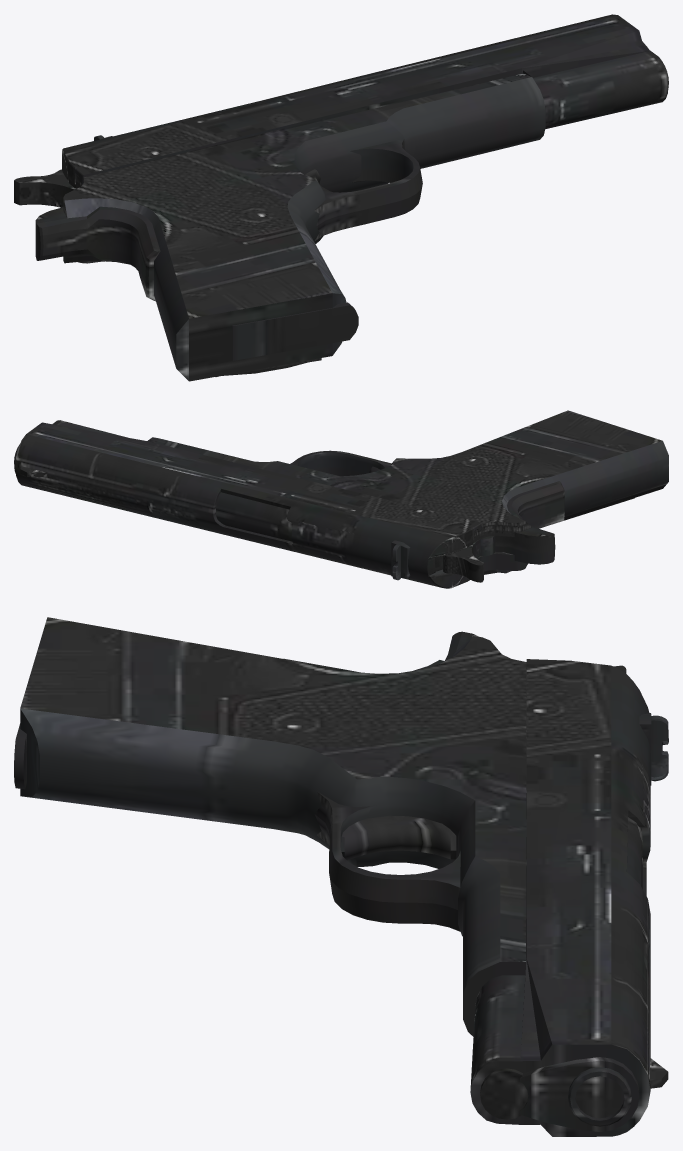
Rendered from t5_weapon_1911_rh_viewmodel.glb.
3 views of the same model, one above another, from view 1: azimuth 30°, elevation 25°; view 2: azimuth 150°, elevation 25°; view 3: azimuth 270°, elevation 25° (orthographic). The views are drawn at different scales.
Parts seen in each view (by area): view 1: t5_weapon_1911_rh_viewmodel; view 2: t5_weapon_1911_rh_viewmodel; view 3: t5_weapon_1911_rh_viewmodel.
Part boxes in pixels (left/top/right/bottom): t5_weapon_1911_rh_viewmodel: left=14, top=14, right=668, bottom=381; t5_weapon_1911_rh_viewmodel: left=14, top=410, right=668, bottom=588; t5_weapon_1911_rh_viewmodel: left=14, top=617, right=668, bottom=1136.
Size of the model in its own units: 0.2293 by 0.0284 by 0.1431.
Materials: 1 (1 with a texture image).
